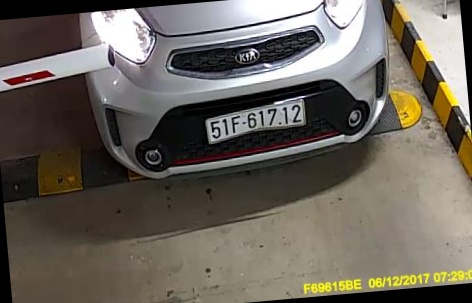plate: (197, 96, 321, 146)
